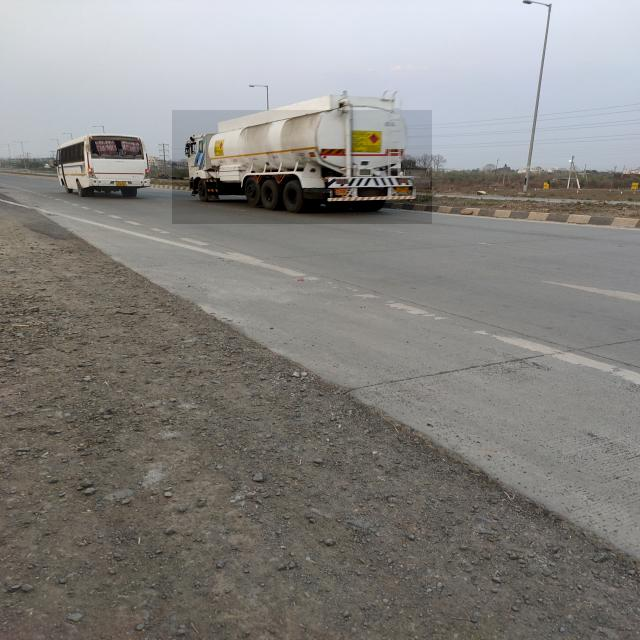Truck: (172, 110, 432, 224)
